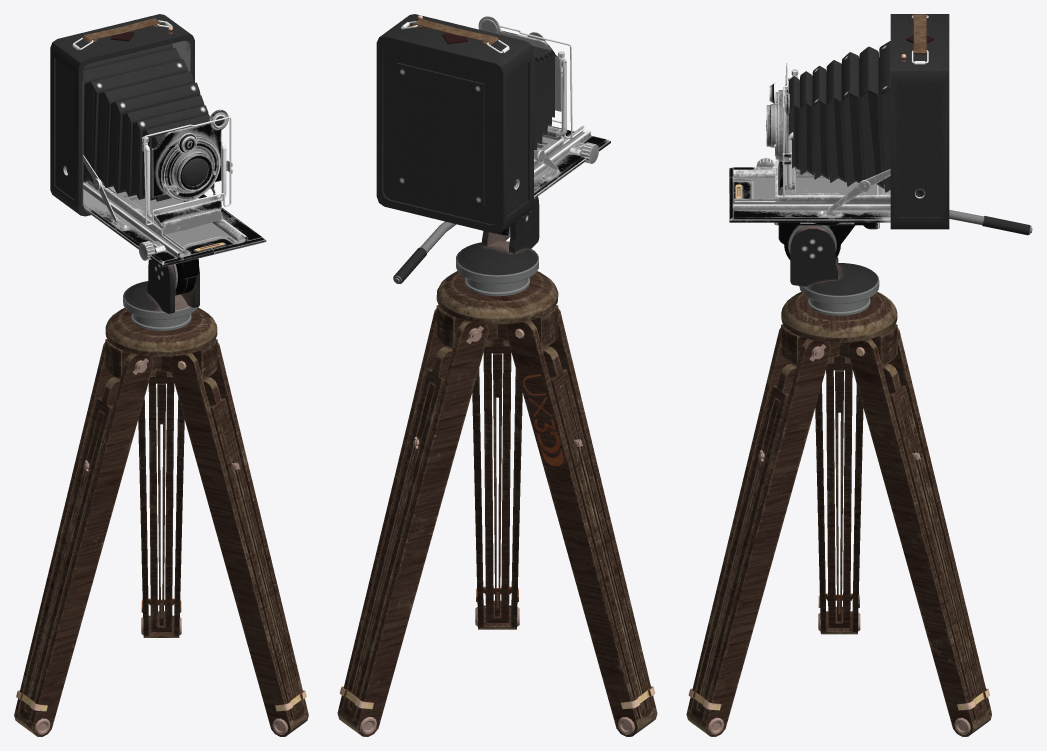
The model's file is AntiqueCamera.gltf.
The picture shows the model from 3 angles, left to right: view 1: azimuth 30°, elevation 25°; view 2: azimuth 150°, elevation 25°; view 3: azimuth 270°, elevation 25°; orthographic projection. The views are drawn at different scales.
Parts seen in each view (by area): view 1: tripod, camera; view 2: tripod, camera; view 3: tripod, camera.
Part boxes in pixels (box(x1,y1,x2,y2)): tripod: box(14, 258, 308, 736); camera: box(50, 14, 266, 266); tripod: box(337, 196, 657, 736); camera: box(376, 14, 610, 233); tripod: box(686, 210, 1032, 736); camera: box(729, 14, 949, 229).
Size of the model in its own units: 2.6 by 7.21 by 3.39.
